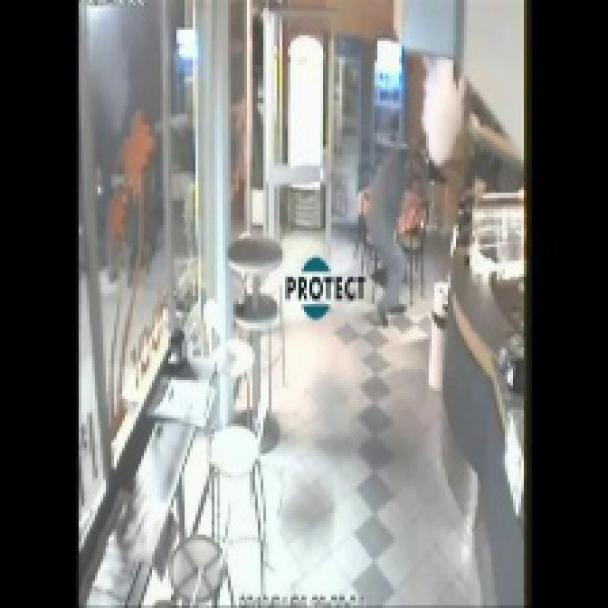smoke: (352, 32, 538, 214)
